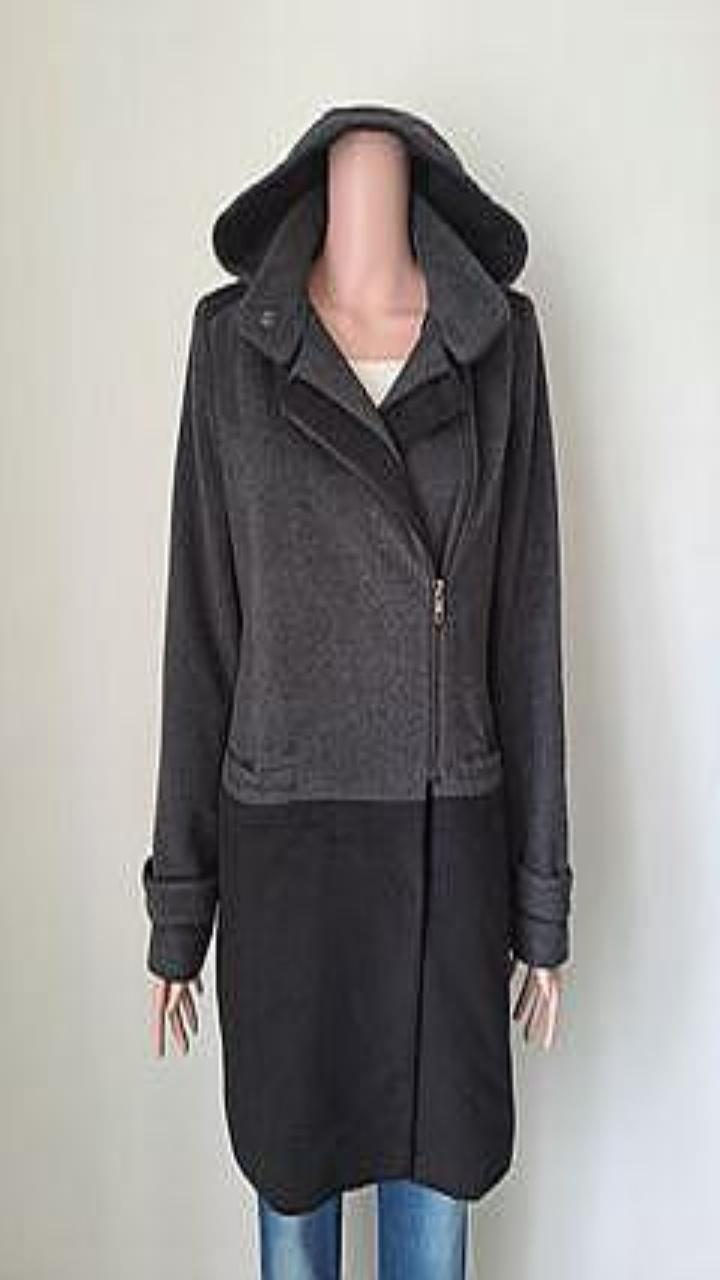Coat: (142, 105, 571, 1212)
Jeans: (377, 1179, 466, 1279)
